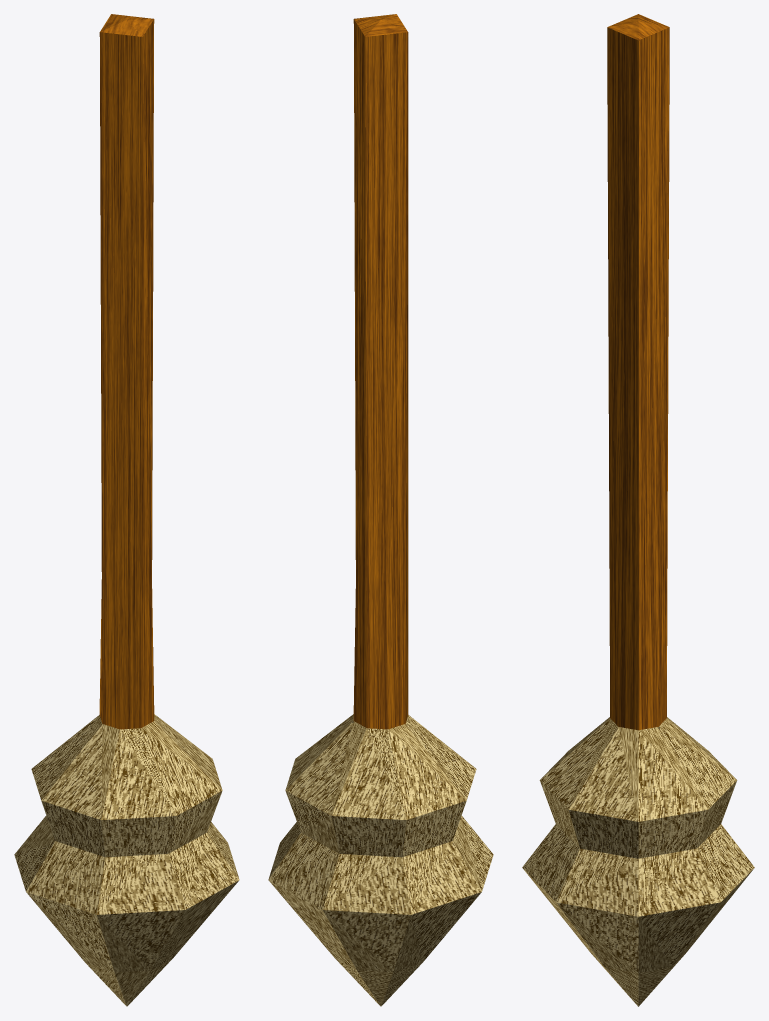
File: Mop.fbx
The picture shows the model from 3 angles, left to right: view 1: azimuth 30°, elevation 25°; view 2: azimuth 150°, elevation 25°; view 3: azimuth 270°, elevation 25°; orthographic projection.
Visible parts, largest first — view 1: mop:pSphere1; view 2: mop:pSphere1; view 3: mop:pSphere1.
Part boxes in pixels (x1,y1,x2,y2): mop:pSphere1: (14,14,239,1006); mop:pSphere1: (268,14,493,1006); mop:pSphere1: (522,14,754,1006).
Bounding box in the file's own units: 1.85 × 8.63 × 1.85.
